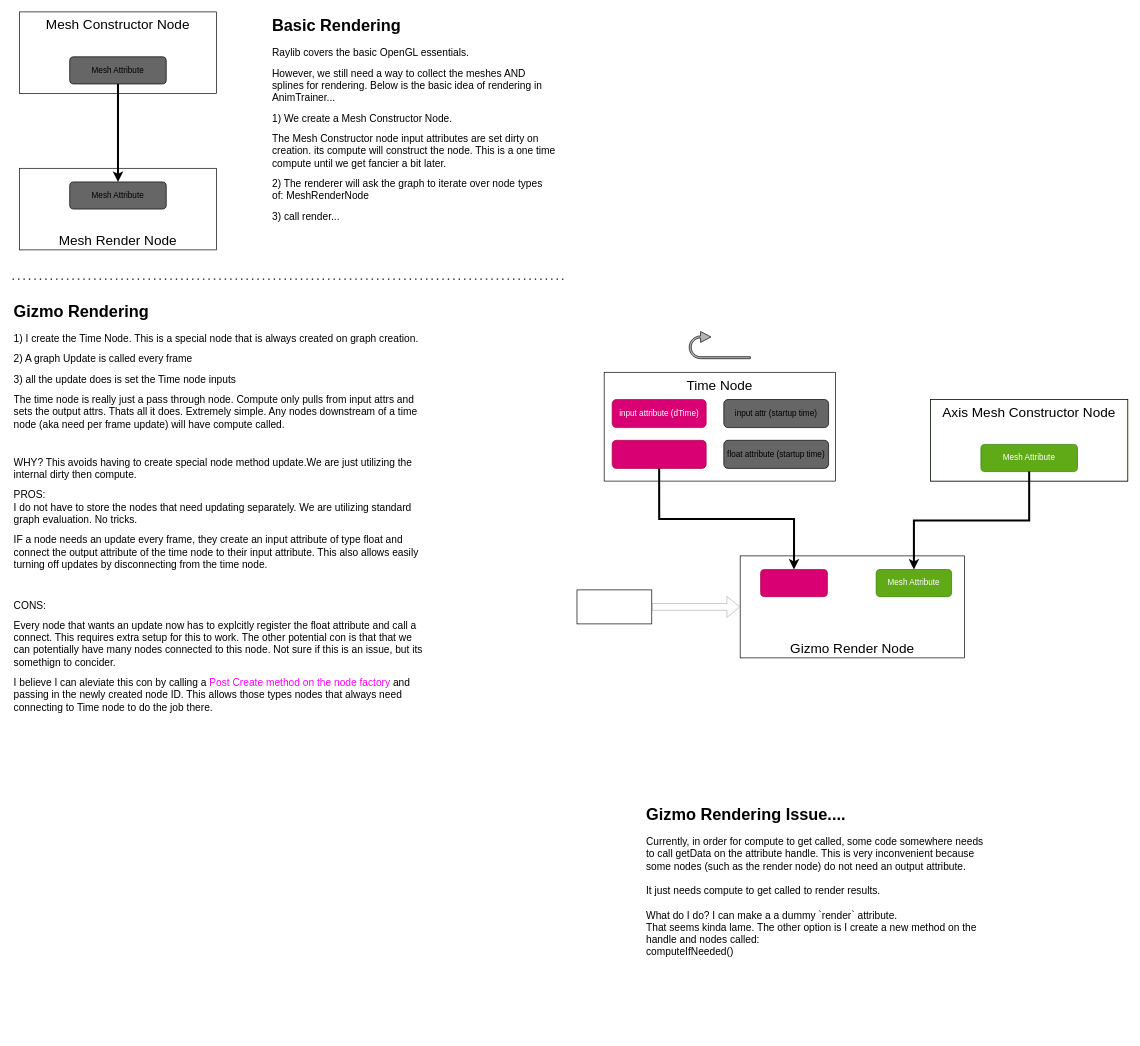
This 1140x1046 diagram has some shape labels left out. Here are the shapes that lost their labels. From the top down, the centre of each, then its label:
At [658,454]: "float attribute (delta time)".
At [793,583]: "float attribute".
At [614,606]: "«interface» IRenderNode".
